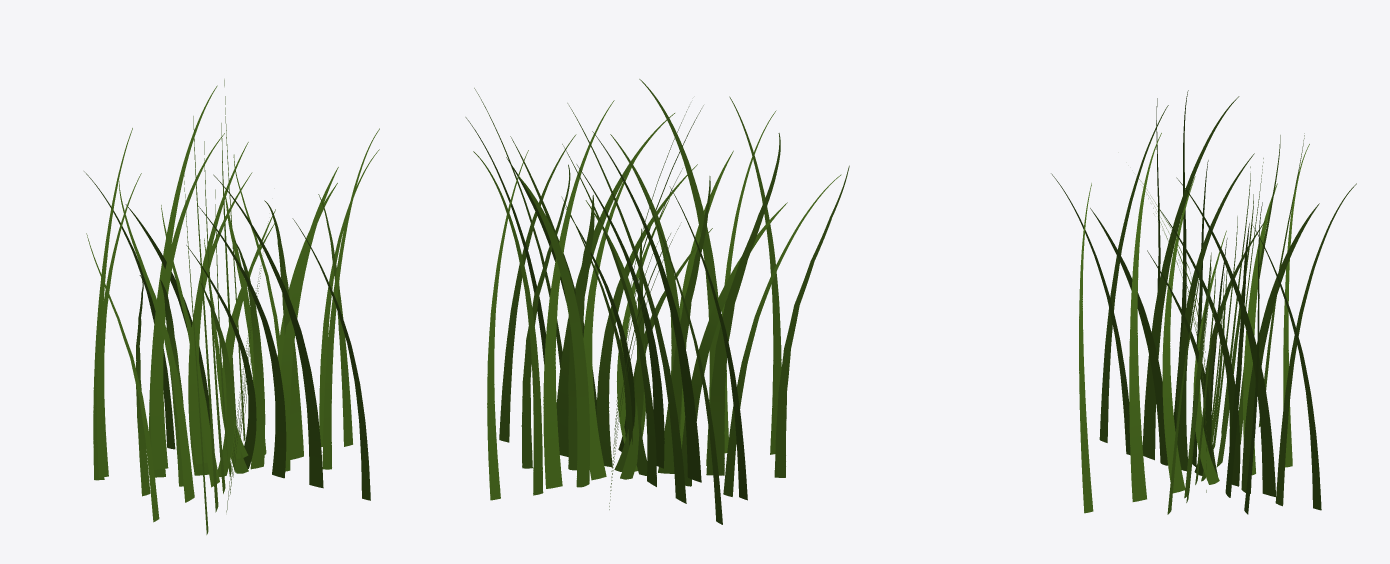
File: grass_90.fbx
3 views of the same model, side by side, from view 1: azimuth 30°, elevation 25°; view 2: azimuth 150°, elevation 25°; view 3: azimuth 270°, elevation 25° (orthographic). The views are drawn at different scales.
Parts seen in each view (by area): view 1: pPlane12; view 2: pPlane12; view 3: pPlane12.
Part boxes in pixels (left/top/right/bottom): pPlane12: left=84, top=79, right=379, bottom=534; pPlane12: left=465, top=79, right=849, bottom=524; pPlane12: left=1051, top=90, right=1356, bottom=514.
Bounding box in the file's own units: 69.55 × 59.99 × 51.91.
